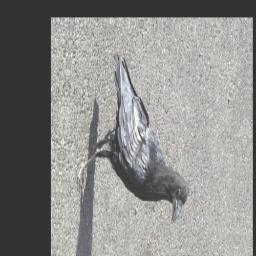Crow: (74, 49, 201, 226)
